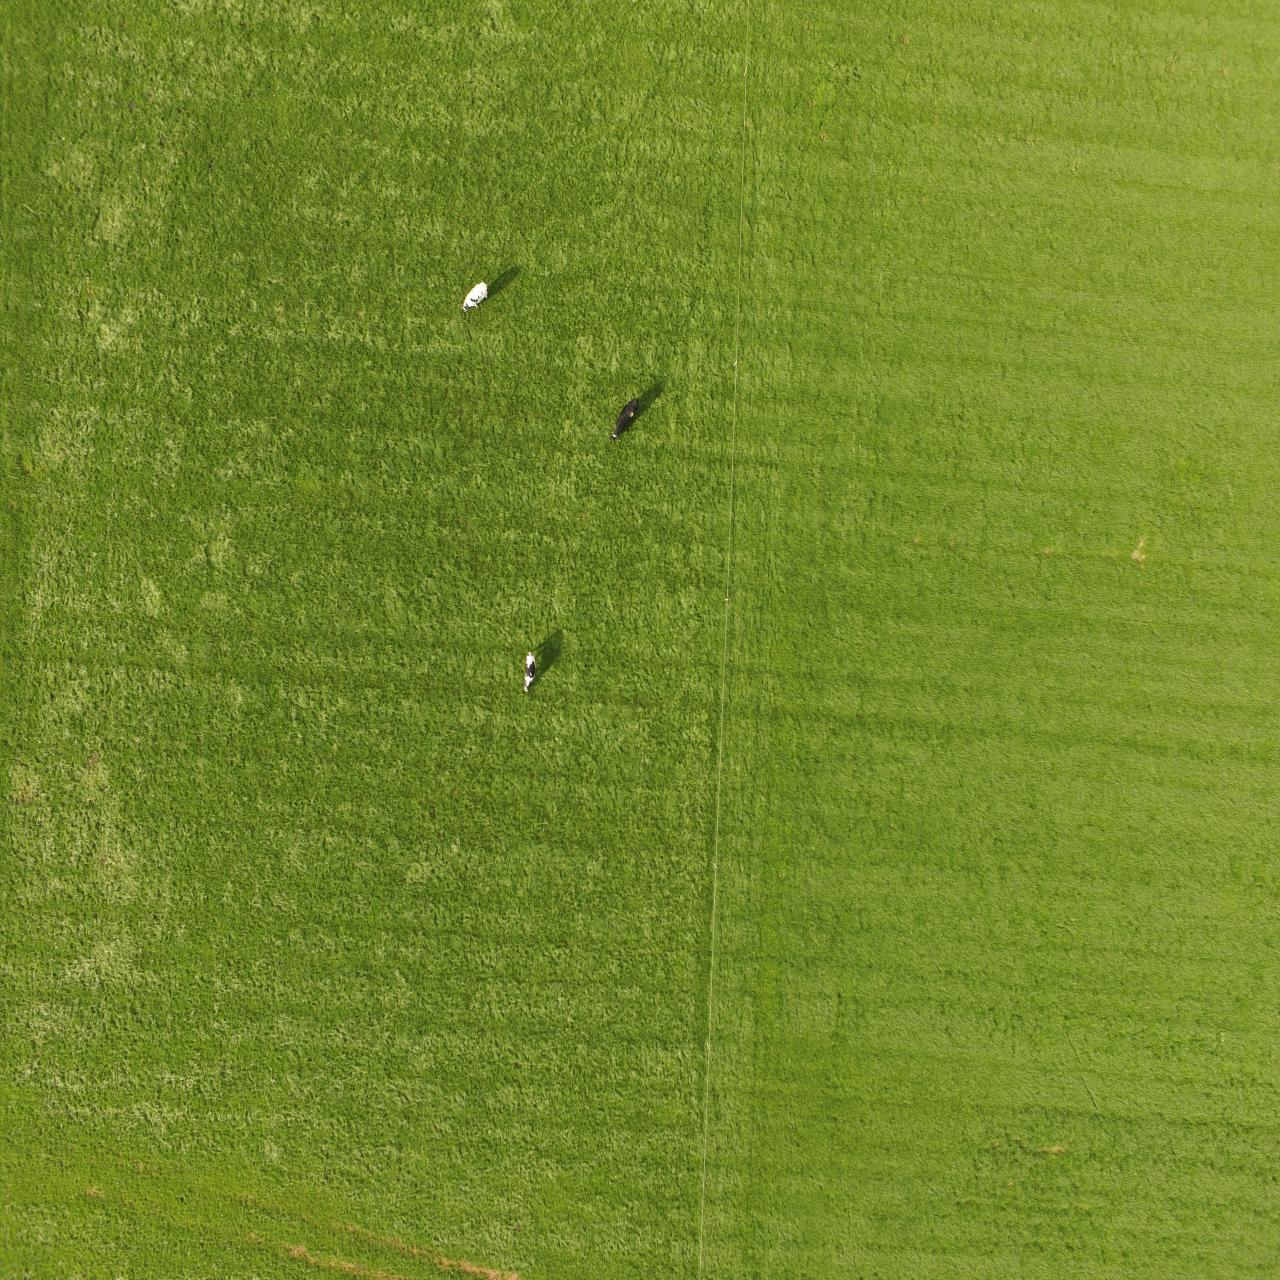cow: (607, 393, 641, 441), (459, 277, 490, 314), (523, 647, 537, 694)
